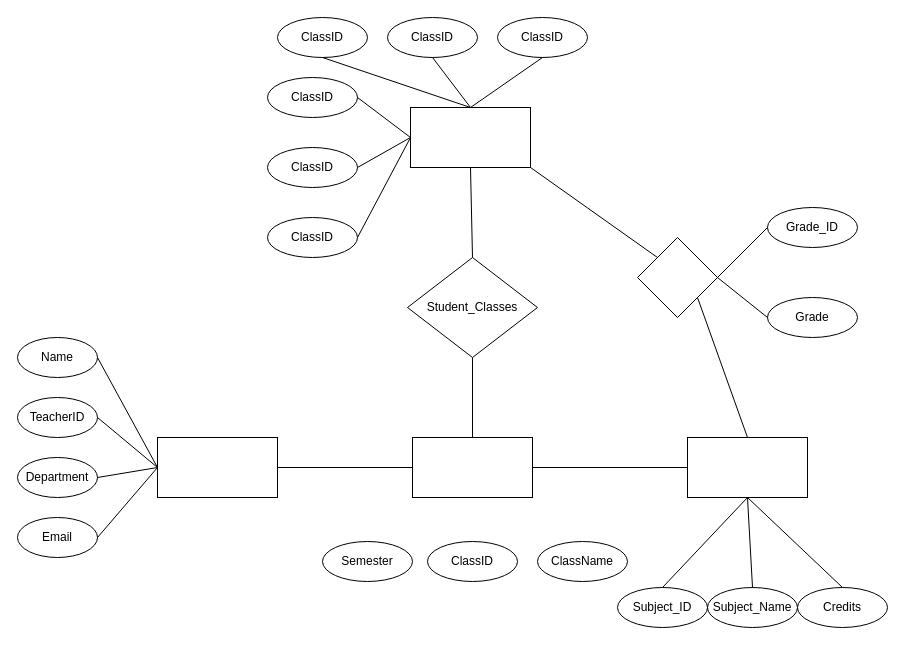
The diagram is 905 pixels wide and 645 high, and some of its shapes have lost their labels. Here are the shapes that lost their labels. From the top down, the centre of each, then its label:
point (470, 137): Students
point (677, 277): Grades
point (217, 467): Teachers
point (472, 467): Classes
point (747, 467): Subjects
